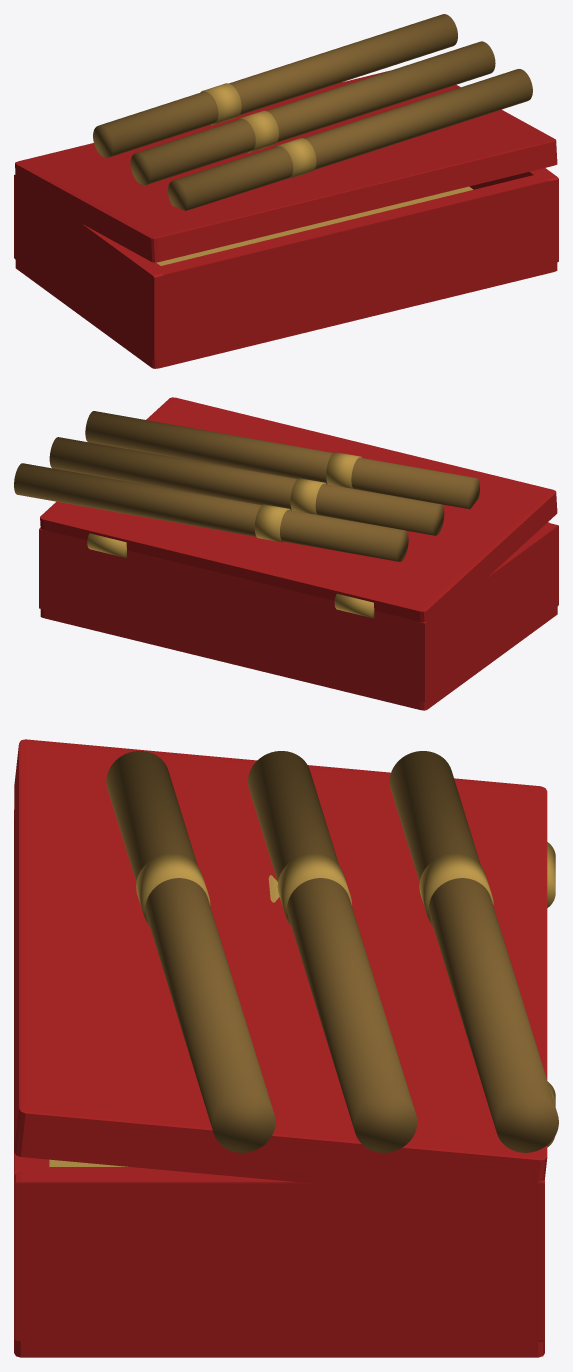
The picture shows the model from 3 angles, top to bottom: view 1: azimuth 30°, elevation 25°; view 2: azimuth 150°, elevation 25°; view 3: azimuth 270°, elevation 25°; orthographic projection. The views are drawn at different scales.
Parts seen in each view (by area): view 1: TI055 / separate lid panel, TI055 / case end, TI055 / case side, TI055 / case bottom, TI055 / individual cigar.001, TI055 / individual cigar.002, TI055 / individual cigar, TI055 / case side.001, TI055 / case liner, TI055 / gold cigar band.002, TI055 / gold cigar band.001, TI055 / gold cigar band; view 2: TI055 / separate lid panel, TI055 / case end.001, TI055 / individual cigar.002, TI055 / case side, TI055 / individual cigar.001, TI055 / individual cigar, TI055 / case bottom, TI055 / case side.001, TI055 / gold cigar band.002, TI055 / gold cigar band, TI055 / gold cigar band.001, TI055 / hinge barrel (+1 smaller); view 3: TI055 / separate lid panel, TI055 / case side.001, TI055 / case bottom, TI055 / individual cigar.001, TI055 / individual cigar, TI055 / individual cigar.002, TI055 / gold cigar band, TI055 / gold cigar band.002, TI055 / gold cigar band.001, TI055 / case end.
Boxes of the visible parts, bbox=[...] form: TI055 / separate lid panel: bbox=[15, 70, 557, 262]; TI055 / case end: bbox=[158, 174, 550, 351]; TI055 / case side: bbox=[14, 174, 169, 360]; TI055 / case bottom: bbox=[15, 245, 557, 368]; TI055 / individual cigar.001: bbox=[130, 41, 495, 185]; TI055 / individual cigar.002: bbox=[93, 14, 457, 157]; TI055 / individual cigar: bbox=[168, 69, 532, 210]; TI055 / case side.001: bbox=[469, 168, 558, 262]; TI055 / case liner: bbox=[156, 186, 473, 265]; TI055 / gold cigar band.002: bbox=[200, 83, 241, 125]; TI055 / gold cigar band.001: bbox=[238, 110, 278, 152]; TI055 / gold cigar band: bbox=[275, 138, 316, 178]; TI055 / separate lid panel: bbox=[40, 397, 557, 622]; TI055 / case end.001: bbox=[49, 531, 414, 698]; TI055 / individual cigar.002: bbox=[14, 463, 408, 561]; TI055 / case side: bbox=[410, 523, 558, 702]; TI055 / individual cigar.001: bbox=[49, 437, 444, 535]; TI055 / individual cigar: bbox=[85, 411, 479, 509]; TI055 / case bottom: bbox=[40, 593, 557, 710]; TI055 / case side.001: bbox=[39, 527, 53, 611]; TI055 / gold cigar band.002: bbox=[254, 504, 290, 542]; TI055 / gold cigar band: bbox=[326, 452, 361, 488]; TI055 / gold cigar band.001: bbox=[290, 478, 326, 514]; TI055 / hinge barrel: bbox=[334, 593, 374, 618]; TI055 / separate lid panel: bbox=[14, 739, 547, 1203]; TI055 / case side.001: bbox=[14, 1167, 544, 1341]; TI055 / case bottom: bbox=[14, 1307, 544, 1357]; TI055 / individual cigar.001: bbox=[248, 751, 417, 1152]; TI055 / individual cigar: bbox=[106, 751, 275, 1152]; TI055 / individual cigar.002: bbox=[389, 751, 558, 1152]; TI055 / gold cigar band: bbox=[136, 853, 210, 926]; TI055 / gold cigar band.002: bbox=[419, 853, 493, 926]; TI055 / gold cigar band.001: bbox=[277, 853, 351, 926]; TI055 / case end: bbox=[14, 818, 49, 1175].
Size of the model in its own units: 2.66 by 0.896 by 1.54.
